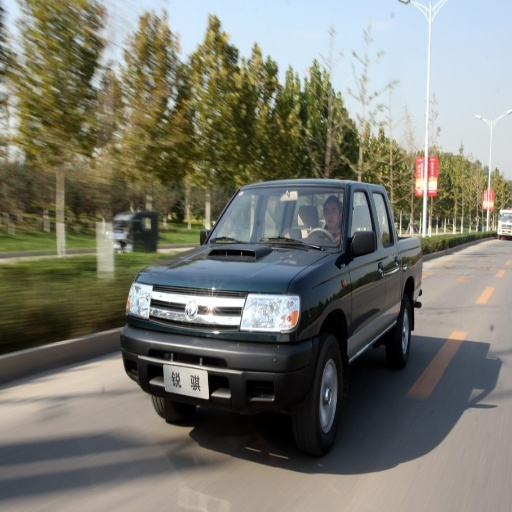front_bumper: (121, 283, 315, 413)
front_glass: (208, 185, 342, 252)
front_left_door: (347, 187, 384, 355)
